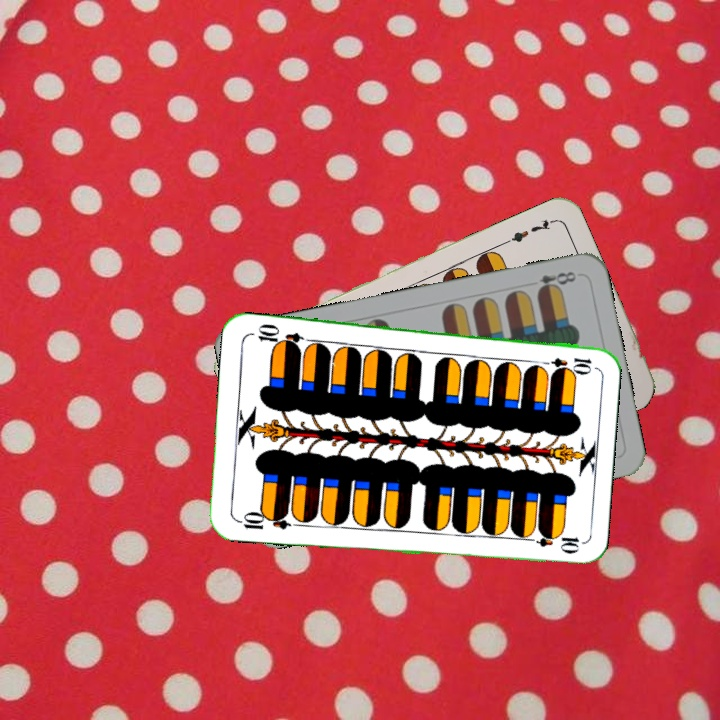E10: (233, 507, 292, 533), (535, 353, 594, 373)
E7: (502, 215, 558, 246)
E8: (533, 267, 579, 296)
